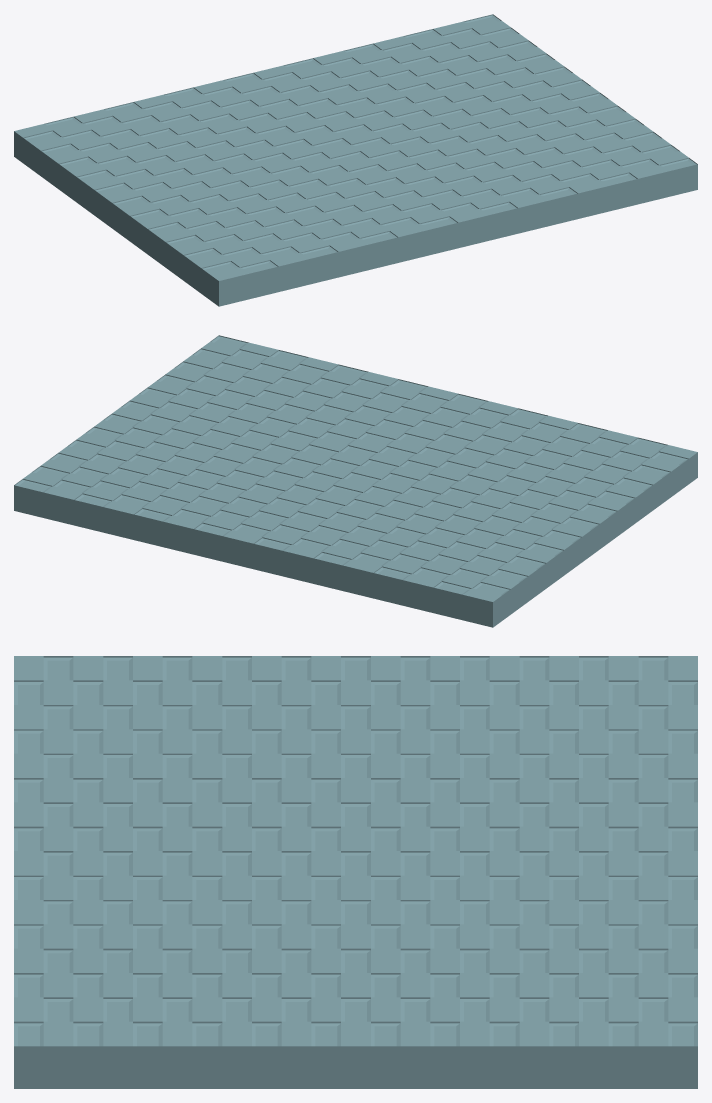
The model's file is BlendScene.glb.
3 views of the same model, one above another, from view 1: azimuth 30°, elevation 25°; view 2: azimuth 150°, elevation 25°; view 3: azimuth 270°, elevation 25° (orthographic). The views are drawn at different scales.
Parts seen in each view (by area): view 1: Ground; view 2: Ground; view 3: Ground.
Boxes of the visible parts, x1,y1,x2,y2 form: Ground: (14,14,697,306); Ground: (14,335,697,627); Ground: (14,656,697,1088).
Size of the model in its own units: 17.99 by 0.9352 by 13.33.
